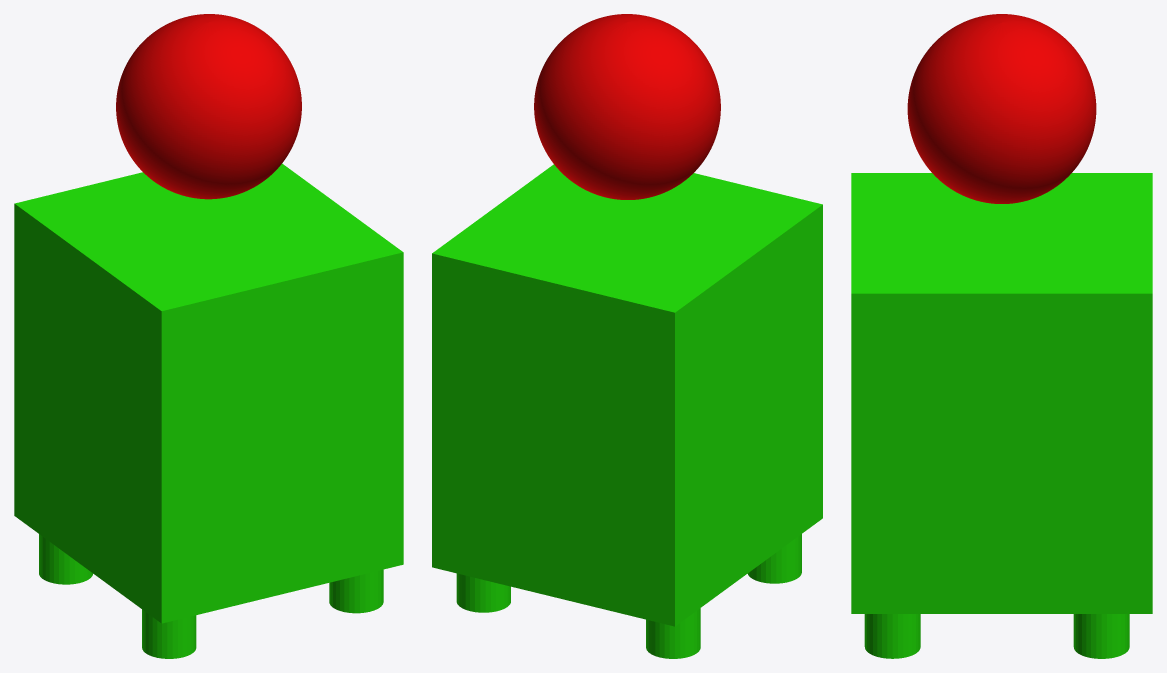
File: zerg.fbx
3 views of the same model, side by side, from view 1: azimuth 30°, elevation 25°; view 2: azimuth 150°, elevation 25°; view 3: azimuth 270°, elevation 25° (orthographic). The views are drawn at different scales.
Parts seen in each view (by area): view 1: Cube, Sphere, Cylinder.002, Cylinder.003, Cylinder.001; view 2: Cube, Sphere, Cylinder.001, Cylinder, Cylinder.002; view 3: Cube, Sphere, Cylinder, Cylinder.003.
Boxes of the visible parts, x1,y1,x2,y2 form: Cube: [14, 163, 403, 623]; Sphere: [116, 14, 301, 199]; Cylinder.002: [142, 609, 196, 658]; Cylinder.003: [329, 569, 383, 613]; Cylinder.001: [39, 534, 92, 584]; Cube: [432, 164, 822, 626]; Sphere: [534, 14, 720, 199]; Cylinder.001: [646, 608, 700, 658]; Cylinder: [456, 573, 510, 612]; Cylinder.002: [747, 534, 801, 583]; Cube: [851, 173, 1152, 613]; Sphere: [907, 14, 1096, 203]; Cylinder: [1073, 614, 1129, 658]; Cylinder.003: [864, 614, 920, 658].
Bounding box in the file's own units: 220 × 231 × 489.
